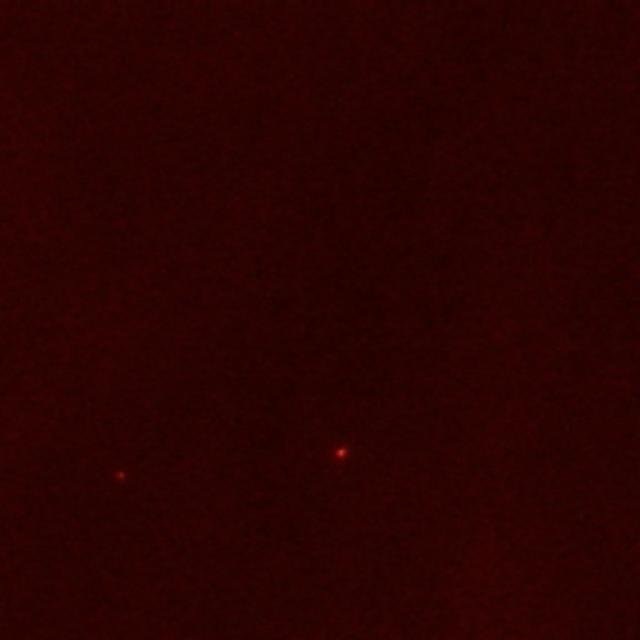Fragment: (333, 446, 349, 460)
